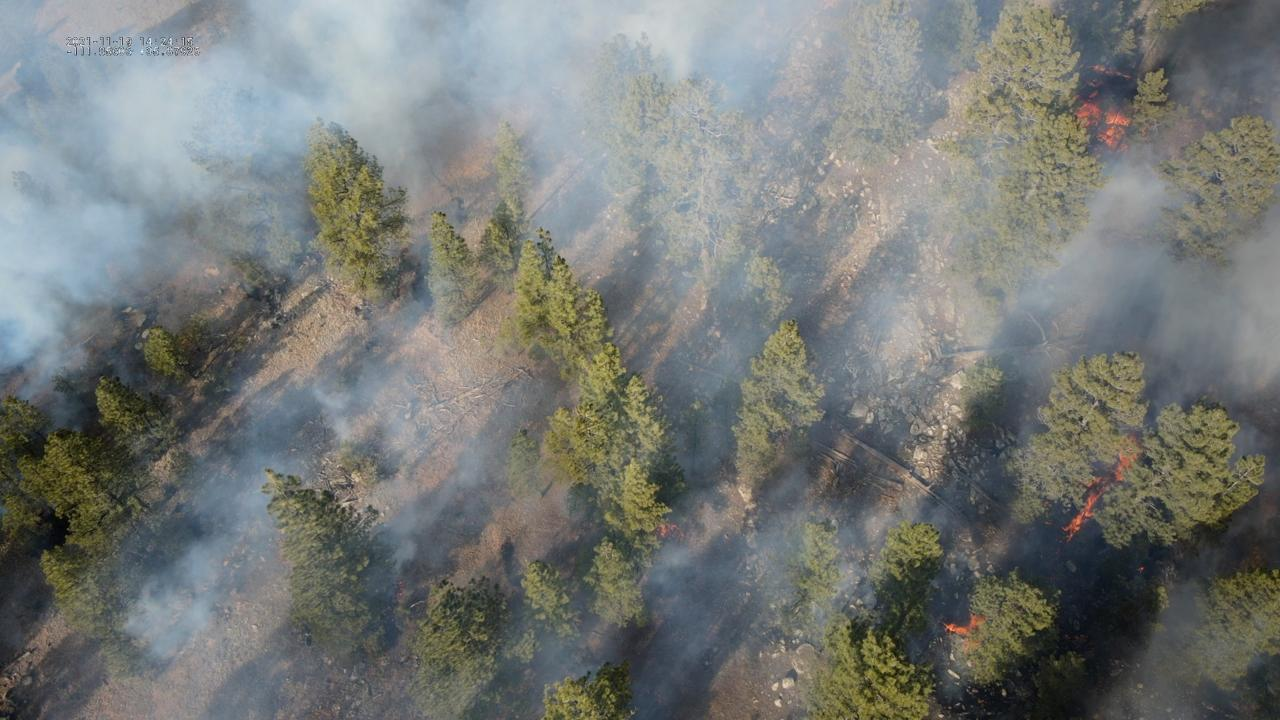fire: (1059, 428, 1144, 540), (1079, 102, 1131, 156), (942, 610, 988, 639), (659, 522, 689, 539), (1088, 63, 1115, 76), (400, 581, 410, 604), (1115, 70, 1132, 80), (1087, 91, 1099, 100)
smoke: (0, 0, 1280, 720), (1118, 577, 1265, 720)
